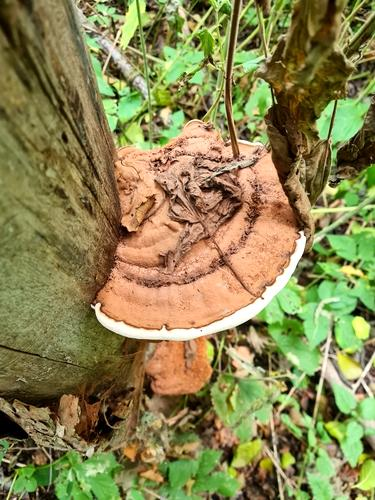Ganoderma - Fruit Body: (106, 111, 308, 342)
